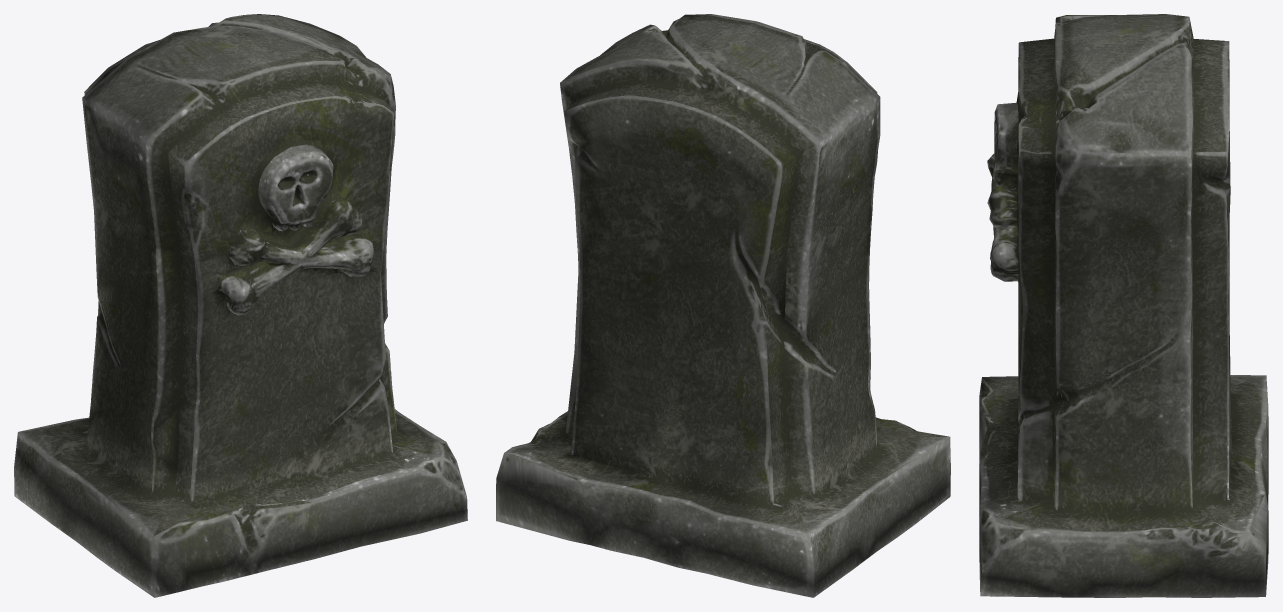
File: graveyard_stone.obj
3 renders of one model, left to right at view 1: azimuth 30°, elevation 25°; view 2: azimuth 150°, elevation 25°; view 3: azimuth 270°, elevation 25°, orthographic. The views are drawn at different scales.
Parts seen in each view (by area): view 1: Object_2; view 2: Object_2; view 3: Object_2.
Part boxes in pixels (left/top/right/bottom): Object_2: left=14, top=14, right=467, bottom=597; Object_2: left=496, top=14, right=950, bottom=597; Object_2: left=979, top=14, right=1268, bottom=597.
Bounding box in the file's own units: 172 × 243 × 132.
1 material, 1 textured.
